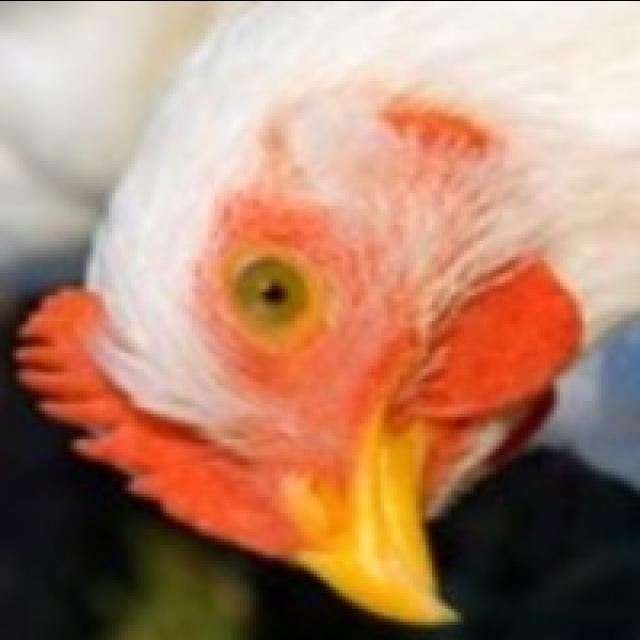Healthy: (9, 3, 636, 624)
